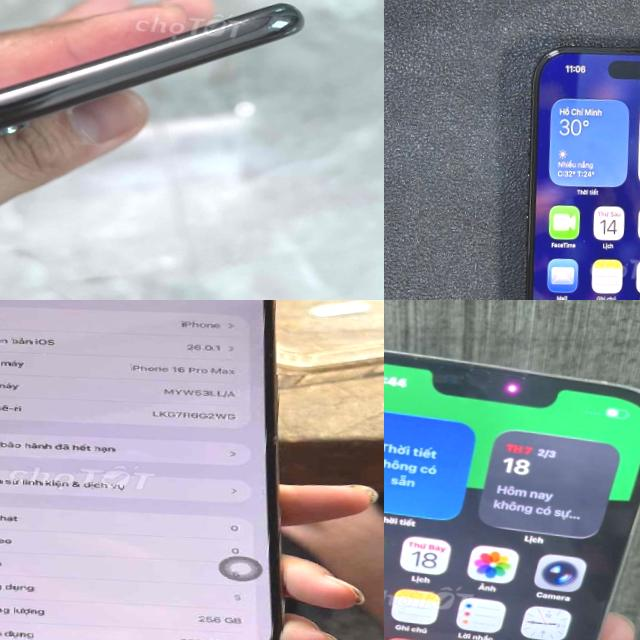gen_12_13: (384, 326, 640, 640)
gen_16: (0, 300, 315, 640), (495, 32, 640, 300)
gen_x_xs: (0, 0, 328, 176)
